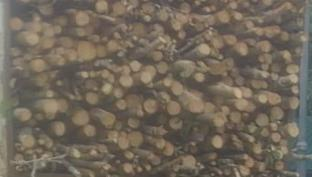medium: (77, 41, 94, 60), (188, 99, 204, 114), (72, 110, 88, 124), (74, 11, 88, 26), (128, 131, 141, 146), (125, 93, 138, 108), (94, 43, 106, 59), (166, 101, 179, 115), (144, 99, 157, 113), (20, 134, 34, 147), (254, 112, 268, 125), (43, 100, 57, 113), (210, 62, 224, 75), (94, 0, 108, 13), (53, 121, 65, 136), (25, 32, 38, 45), (85, 91, 98, 104), (168, 116, 181, 129), (222, 57, 235, 70), (101, 113, 113, 127), (65, 48, 77, 62), (258, 40, 270, 54), (172, 80, 183, 95), (289, 122, 299, 138), (199, 43, 211, 56), (223, 33, 236, 45), (10, 17, 22, 30), (271, 105, 282, 119), (212, 112, 223, 126), (236, 41, 247, 55), (83, 125, 95, 137), (17, 108, 29, 120), (142, 65, 154, 77), (31, 59, 43, 71), (111, 3, 123, 15), (119, 76, 132, 87), (212, 135, 223, 148), (141, 72, 152, 85), (267, 93, 280, 104), (216, 11, 227, 24), (57, 97, 67, 111), (117, 136, 128, 148), (210, 37, 221, 49), (42, 25, 53, 37), (286, 64, 299, 74), (162, 142, 172, 155), (119, 64, 130, 75), (114, 99, 125, 110), (229, 111, 240, 122), (156, 61, 166, 73), (101, 83, 111, 95), (184, 156, 194, 168), (156, 137, 165, 150), (236, 99, 246, 110), (129, 61, 139, 72), (193, 72, 203, 83), (127, 118, 138, 128), (251, 80, 262, 90), (270, 131, 280, 142), (179, 2, 189, 13), (234, 75, 244, 86), (123, 162, 132, 174), (289, 97, 298, 108), (222, 77, 233, 86), (113, 88, 122, 98), (265, 27, 274, 37), (229, 68, 238, 78), (234, 12, 243, 21), (153, 52, 162, 61), (280, 33, 288, 40)
small: (243, 88, 253, 98), (290, 73, 299, 83), (234, 87, 241, 97), (136, 109, 143, 117), (291, 85, 298, 93), (258, 95, 265, 103), (270, 123, 277, 130), (261, 82, 267, 90), (164, 79, 170, 86), (143, 15, 149, 22), (270, 73, 276, 80), (261, 71, 267, 78), (248, 22, 254, 28), (256, 29, 262, 35), (138, 166, 143, 172), (90, 71, 95, 77), (38, 139, 44, 144), (211, 161, 216, 167), (46, 142, 51, 148), (262, 64, 267, 70), (37, 115, 42, 121), (231, 2, 236, 8), (204, 7, 210, 12), (212, 6, 217, 12), (145, 166, 150, 171), (244, 154, 249, 159), (29, 120, 34, 125), (196, 1, 201, 6), (249, 137, 253, 141)
